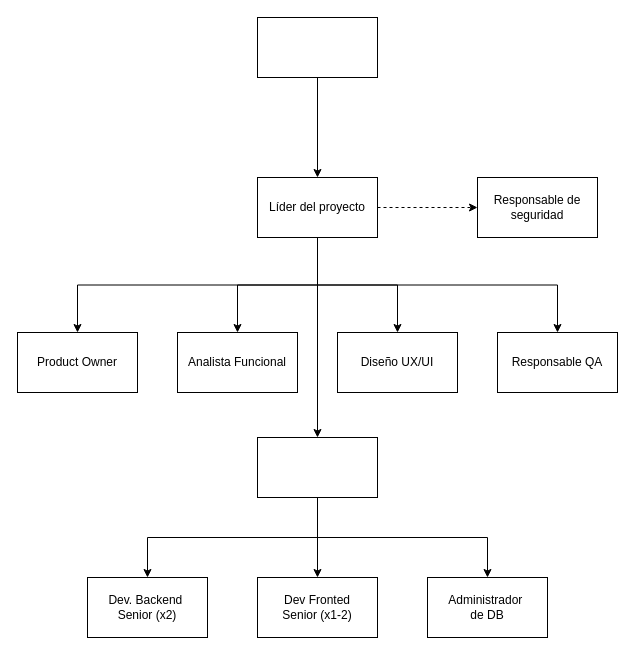
This 635x655 diagram has some shape labels left out. Each missing label, with the centre of its shape:
Arquitecto de SW: [317,467]
Sponsor o Comité Directivo: [317,47]
